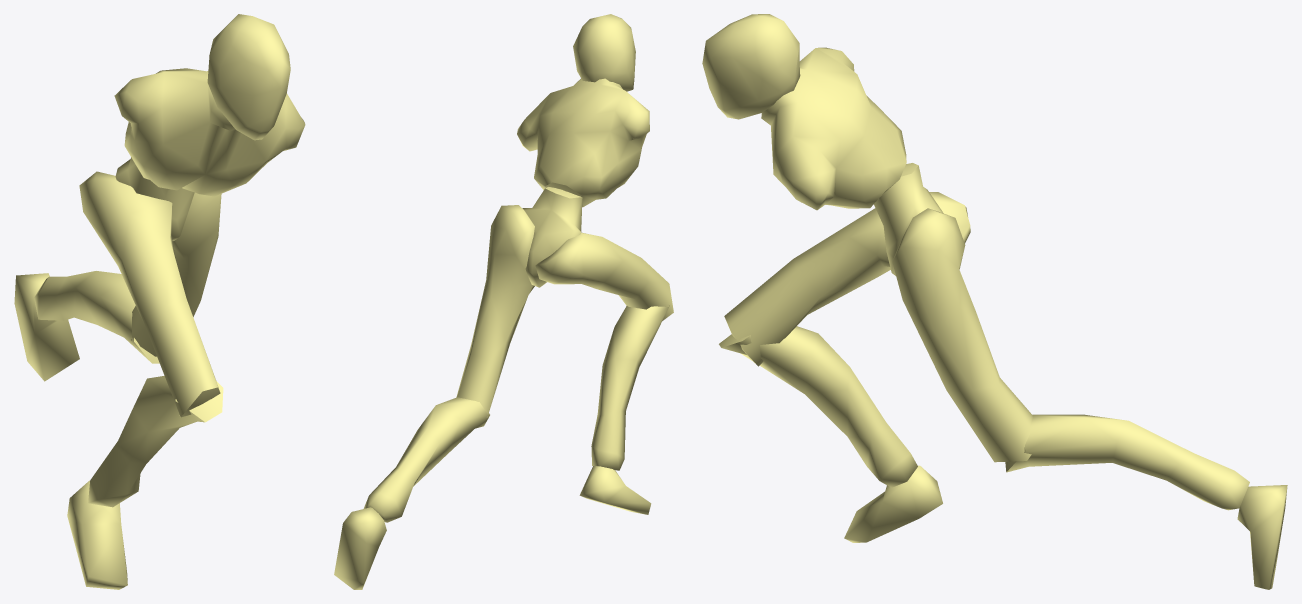
The model's file is filth35.obj.
The picture shows the model from 3 angles, left to right: view 1: azimuth 30°, elevation 25°; view 2: azimuth 150°, elevation 25°; view 3: azimuth 270°, elevation 25°; orthographic projection. The views are drawn at different scales.
Visible parts, largest first — view 1: Melee_Husk; view 2: Melee_Husk; view 3: Melee_Husk.
Boxes of the visible parts, x1=… form: Melee_Husk: x1=14, y1=14, x2=305, y2=589; Melee_Husk: x1=334, y1=14, x2=673, y2=589; Melee_Husk: x1=702, y1=14, x2=1287, y2=589.
Size of the model in its own units: 22.18 by 62.76 by 58.69.
